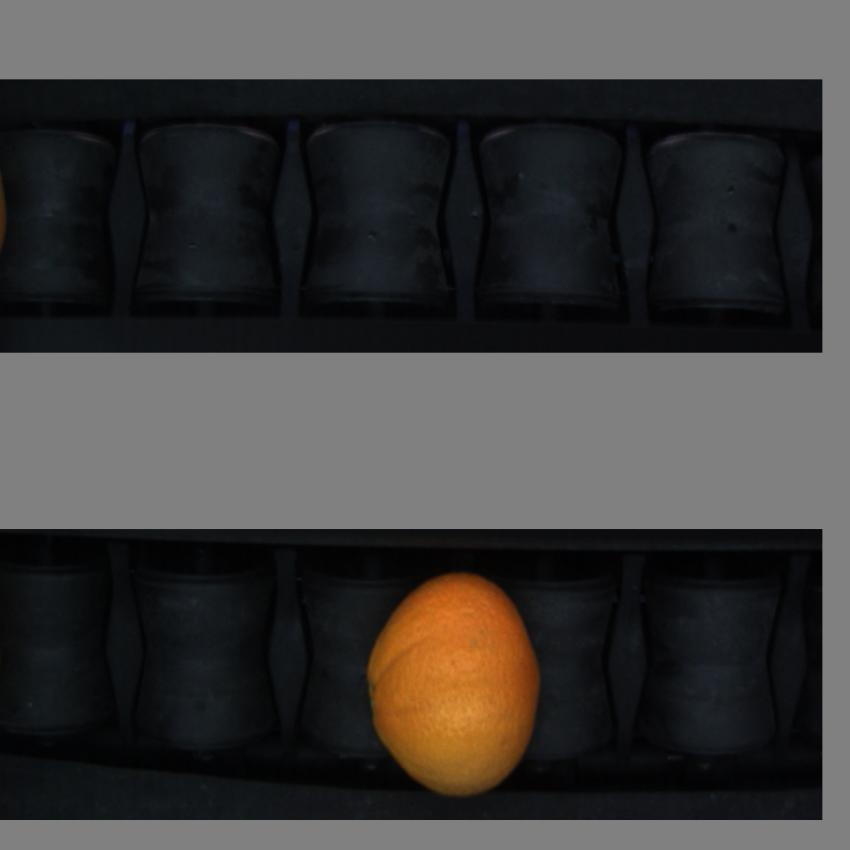Buen estado: (364, 565, 550, 800)
